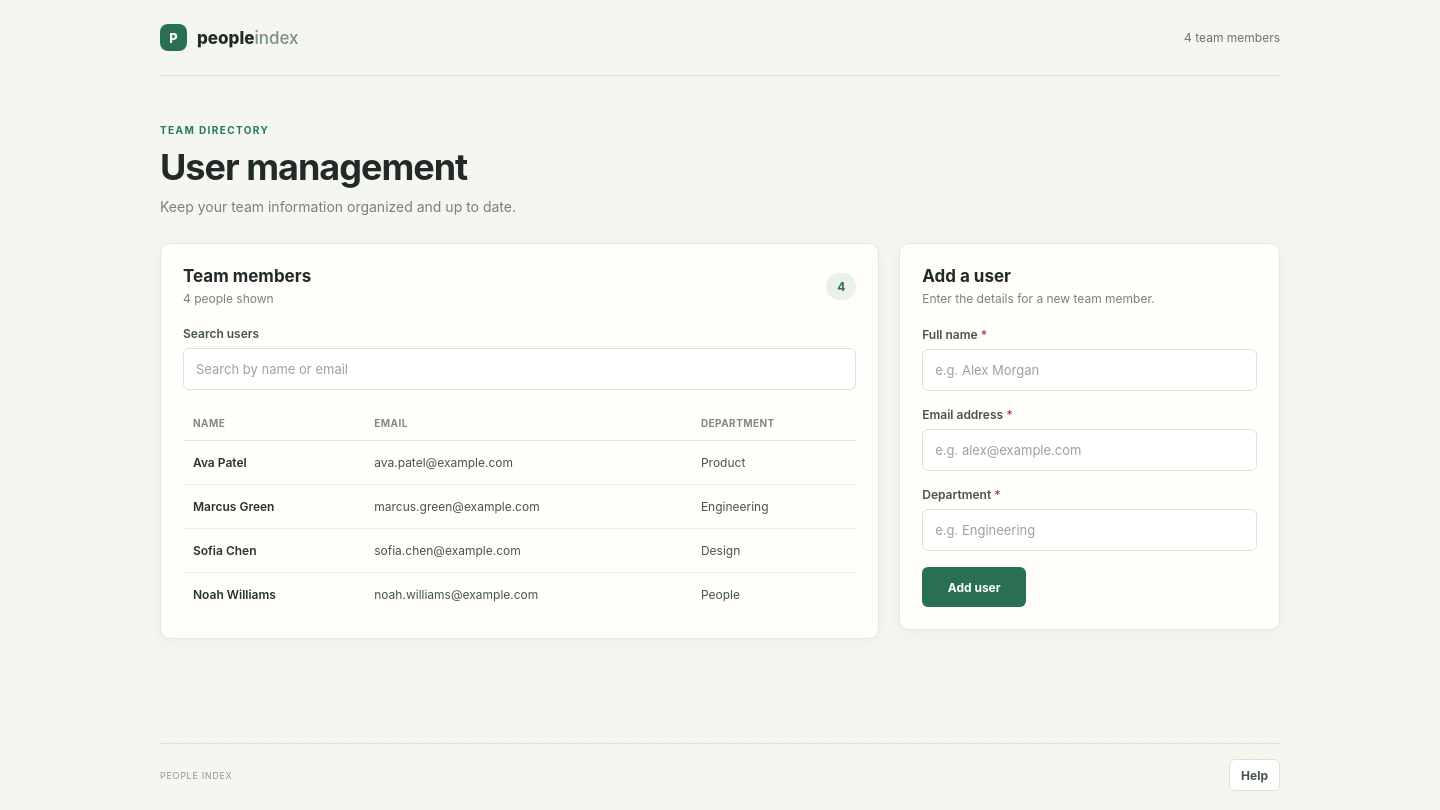
Test: user management › shows a validation message for an invalid email address
Type "Jamie Rivera" into the field labelled "Full name" at [1090, 370], box [922, 349, 1257, 391]
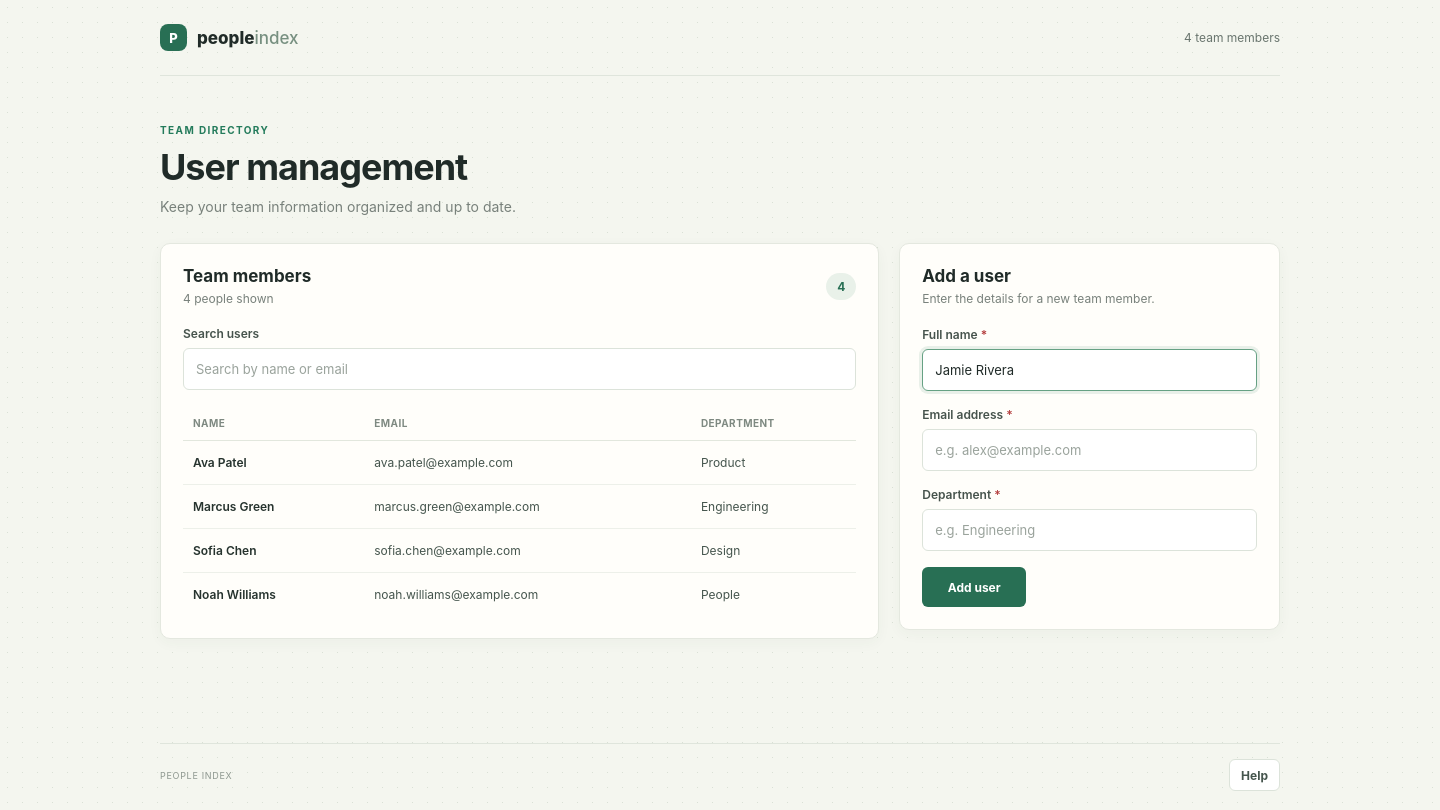
Type "not-an-email" into the field labelled "Email address" at [1090, 450], box [922, 429, 1257, 471]
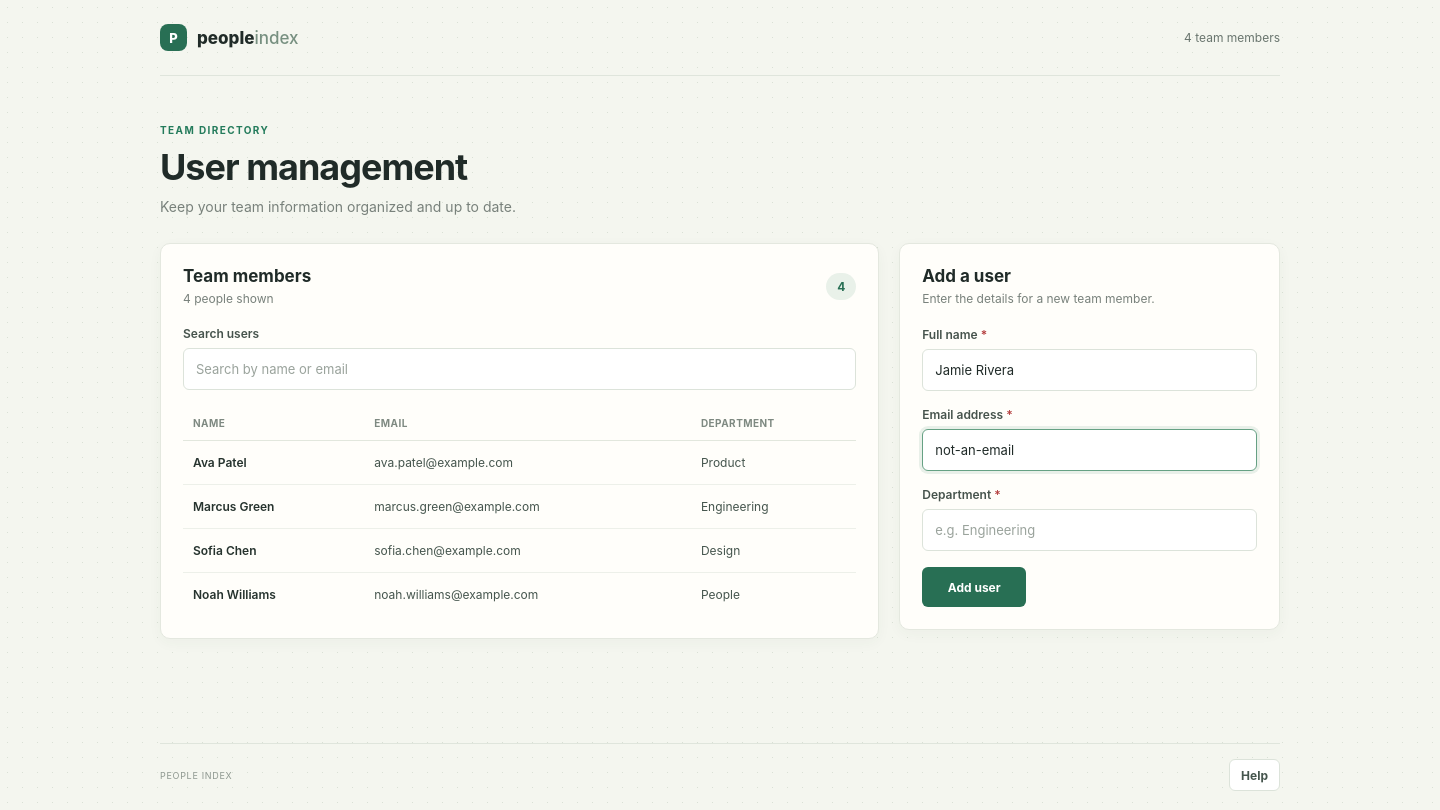
Type "Support" into the field labelled "Department" at [1090, 530], box [922, 509, 1257, 551]
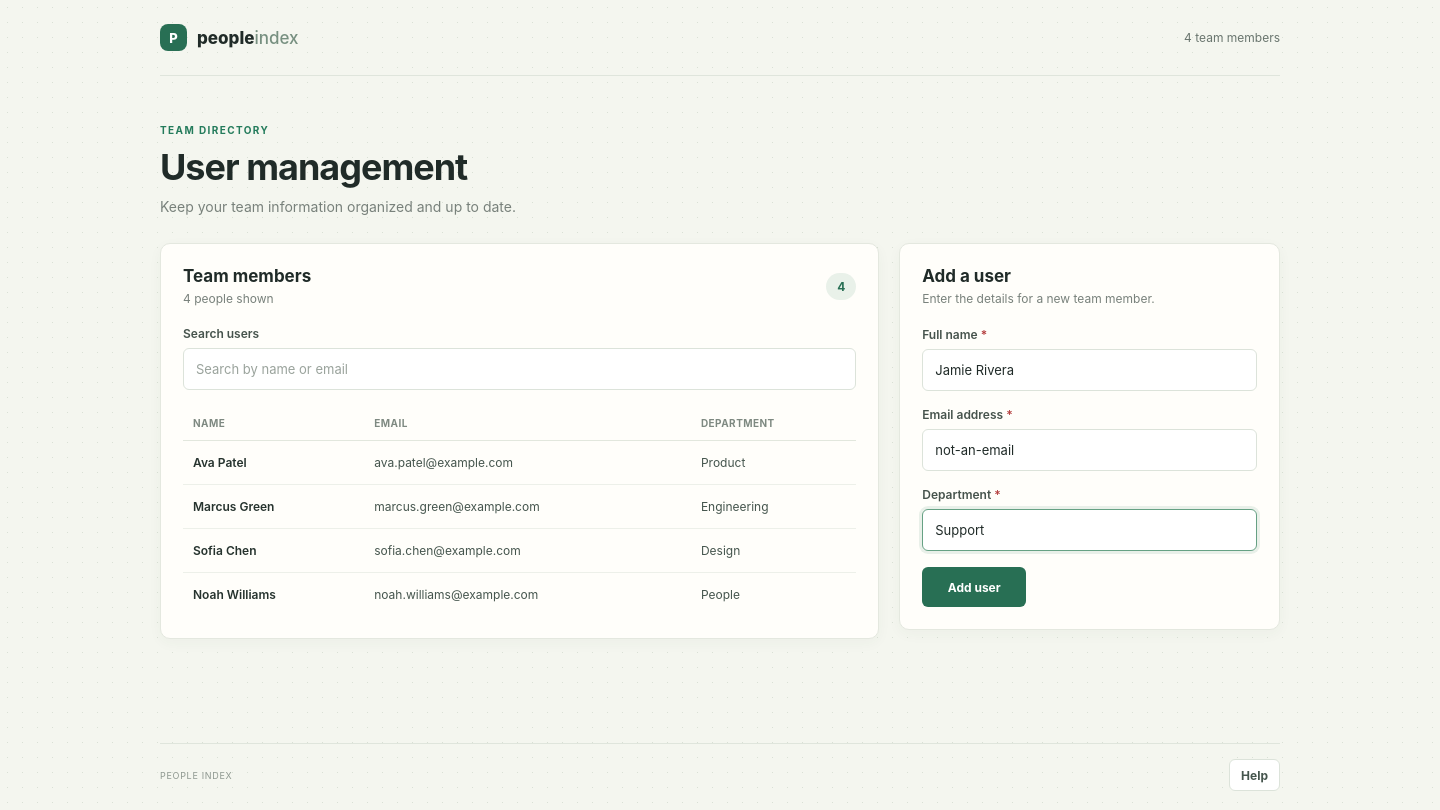
Click the button "Add user" at [974, 587], box [922, 567, 1026, 607]
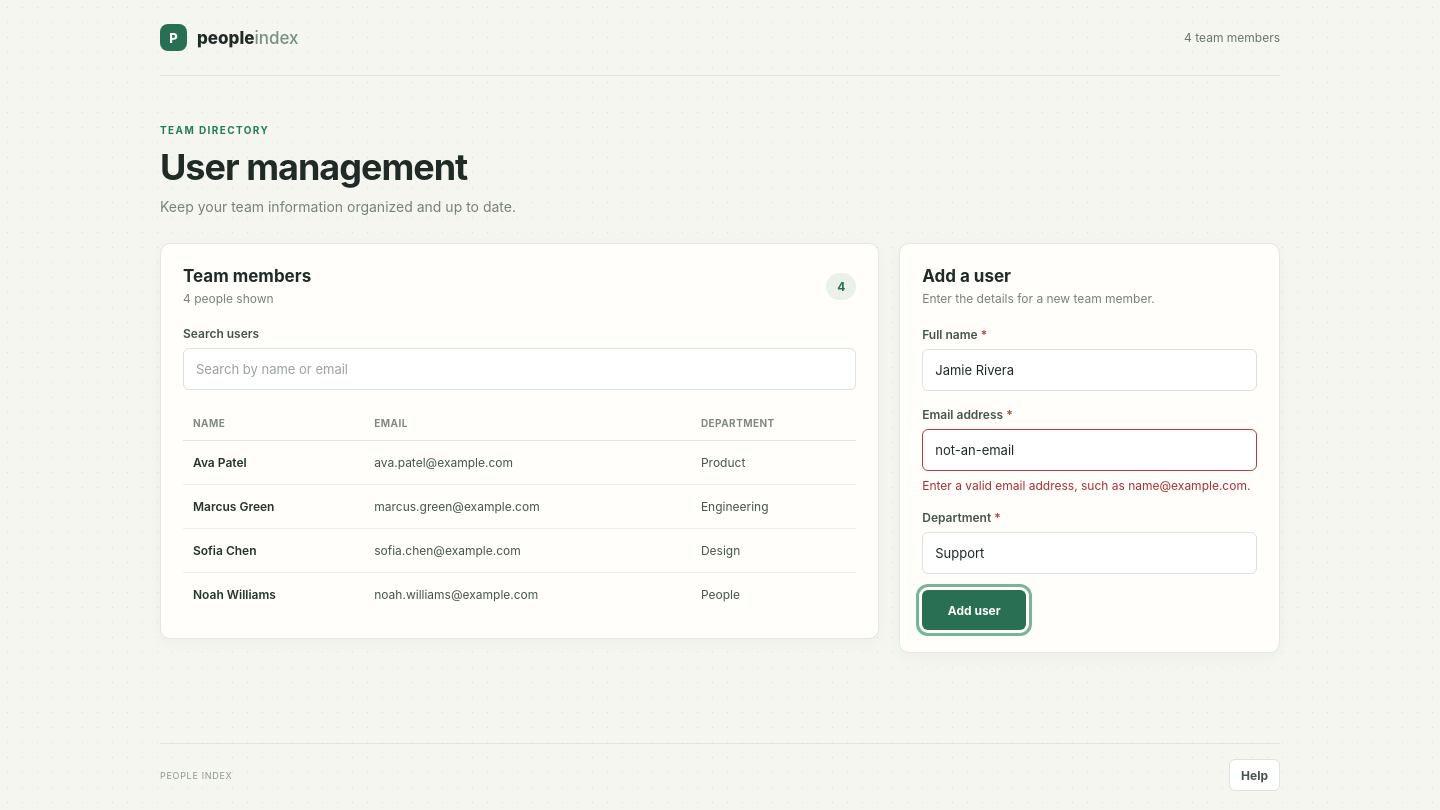
Expected: the text "Enter a valid email address, such as name@example.com." is shown, [922, 477, 1257, 494]
